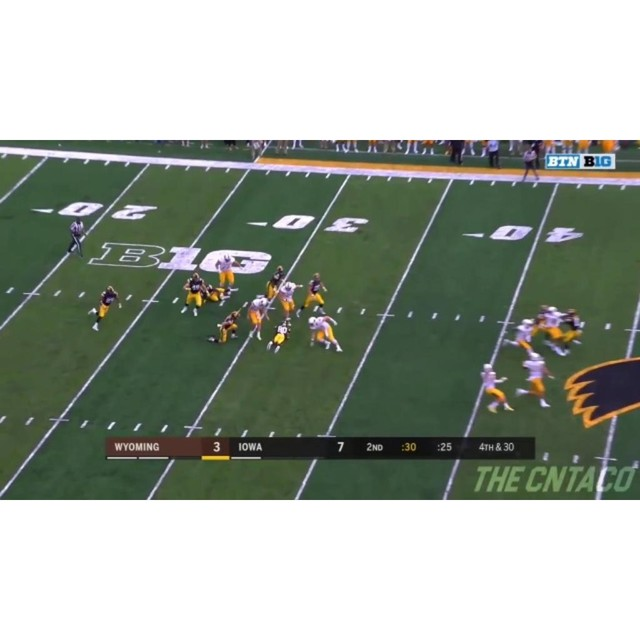american-football-player: (515, 350, 555, 409), (480, 363, 514, 414), (539, 306, 569, 357), (502, 317, 538, 356), (89, 286, 120, 331), (307, 314, 343, 352), (297, 272, 327, 317), (243, 293, 271, 341), (180, 271, 206, 317), (207, 311, 241, 344), (276, 279, 301, 322), (563, 307, 587, 348), (266, 317, 292, 354), (216, 253, 238, 294), (265, 265, 286, 305)
referee: (521, 142, 541, 187), (67, 217, 86, 259)
